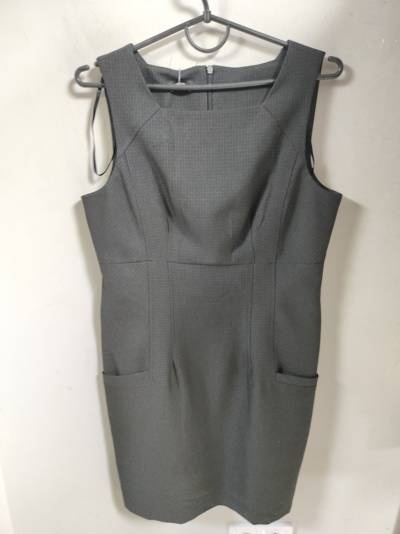Dress: (60, 23, 385, 534)
